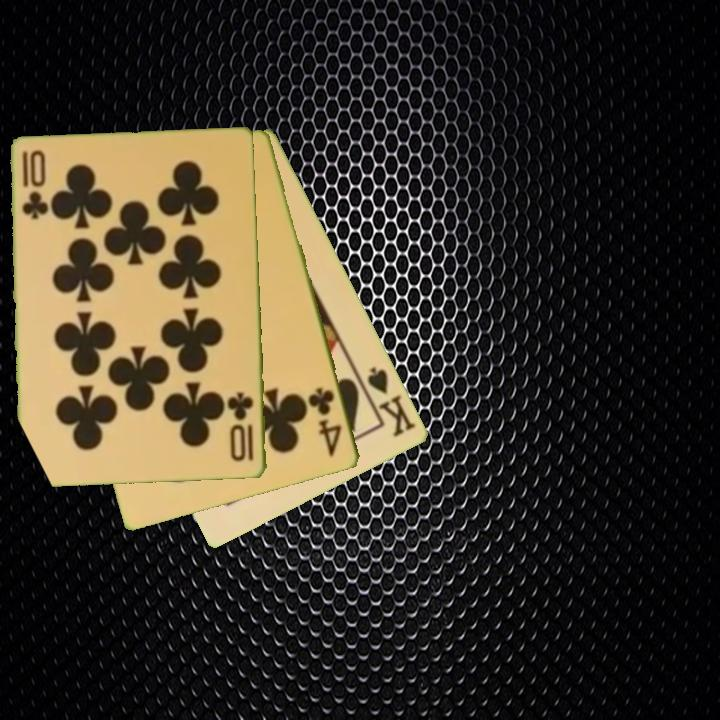10c: (226, 389, 257, 465), (19, 147, 47, 222)
4c: (305, 384, 345, 460)
Ks: (364, 363, 419, 440)
